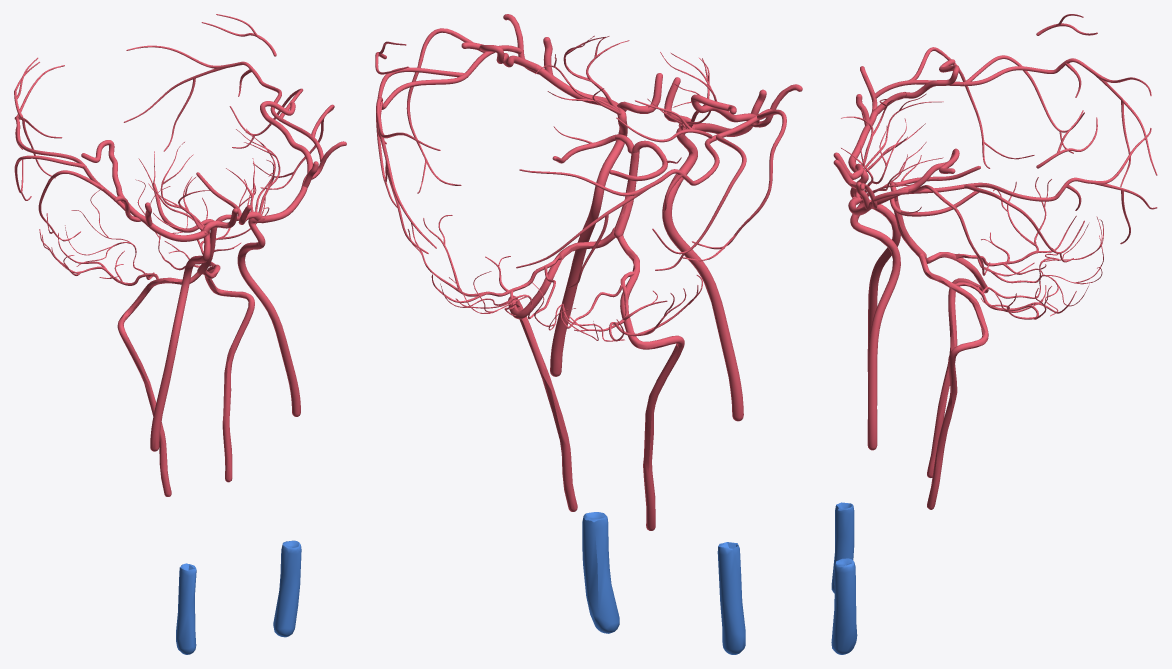
File: vessels.glb
3 views of the same model, side by side, from view 1: azimuth 30°, elevation 25°; view 2: azimuth 150°, elevation 25°; view 3: azimuth 270°, elevation 25° (orthographic). The views are drawn at different scales.
Parts seen in each view (by area): view 1: grp1 (×5); view 2: grp1 (×6); view 3: grp1 (×5).
Part boxes in pixels (box(x1,y1,x2,y2)): grp1 (×5): box(14, 14, 346, 654); grp1 (×6): box(375, 14, 802, 654); grp1 (×5): box(831, 14, 1157, 654).
Bounding box in the file's own units: 0.1419 × 0.253 × 0.1319.
